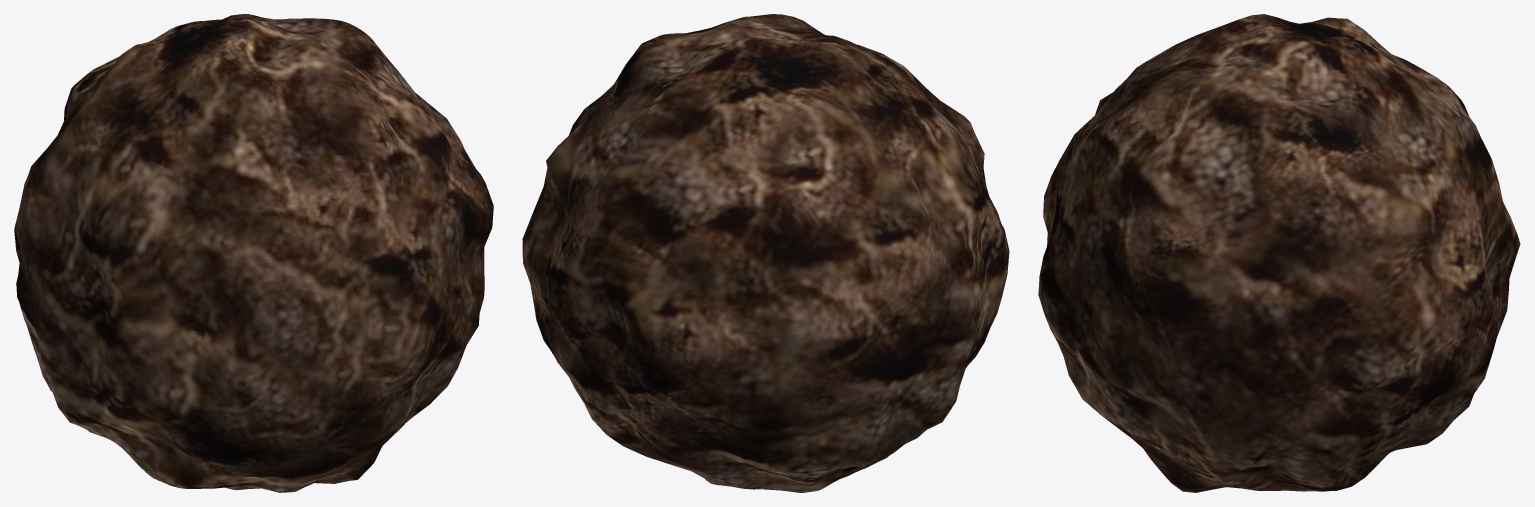
File: pepper_black.fbx
3 renders of one model, left to right at view 1: azimuth 30°, elevation 25°; view 2: azimuth 150°, elevation 25°; view 3: azimuth 270°, elevation 25°, orthographic.
Visible parts, largest first — view 1: PepperBlack; view 2: PepperBlack; view 3: PepperBlack.
Boxes of the visible parts, bbox=[...] form: PepperBlack: bbox=[14, 14, 493, 492]; PepperBlack: bbox=[522, 14, 1009, 492]; PepperBlack: bbox=[1038, 14, 1520, 492].
Size of what is drawn, in the model's own units: 0.4163 by 0.4136 by 0.4104.
